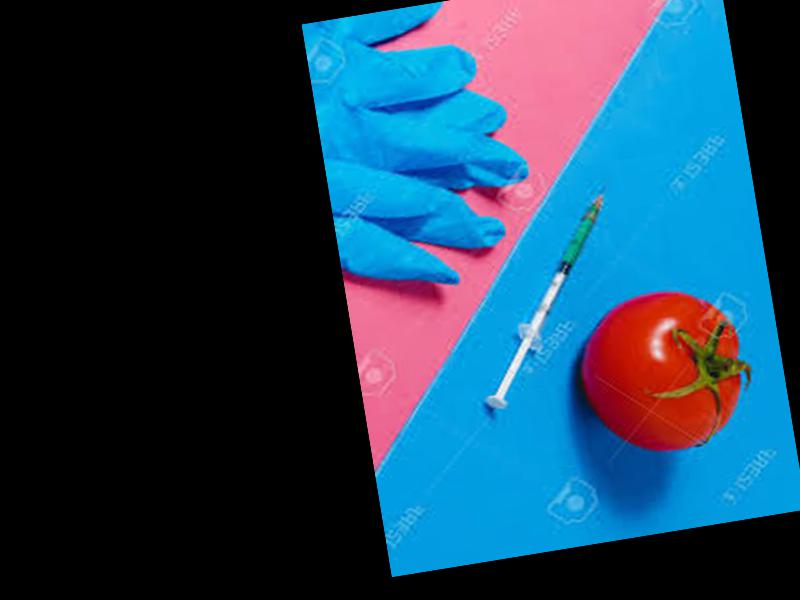Tomato: (568, 280, 752, 461)
